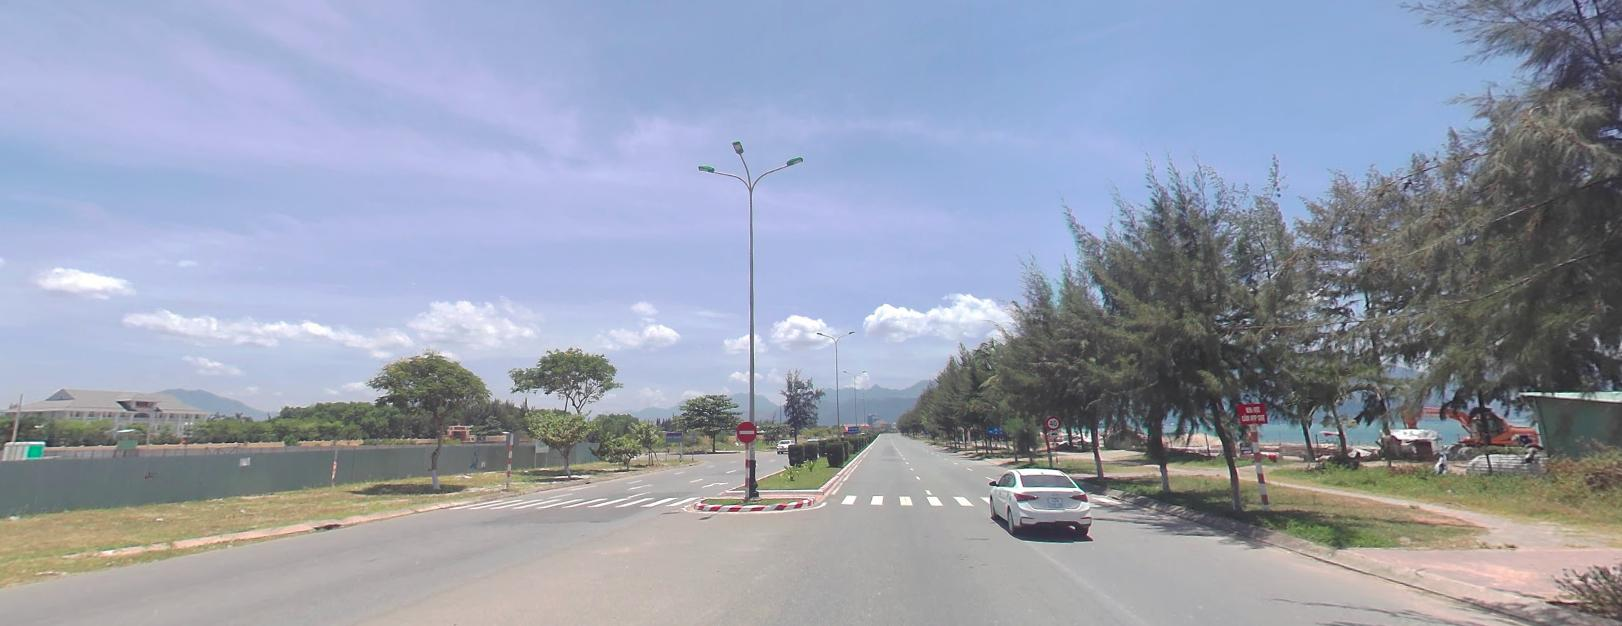Cam nguoc chieu: (735, 420, 757, 442), (735, 420, 755, 441)
Gioi han toc do: (1046, 414, 1060, 428), (1046, 415, 1059, 428)
